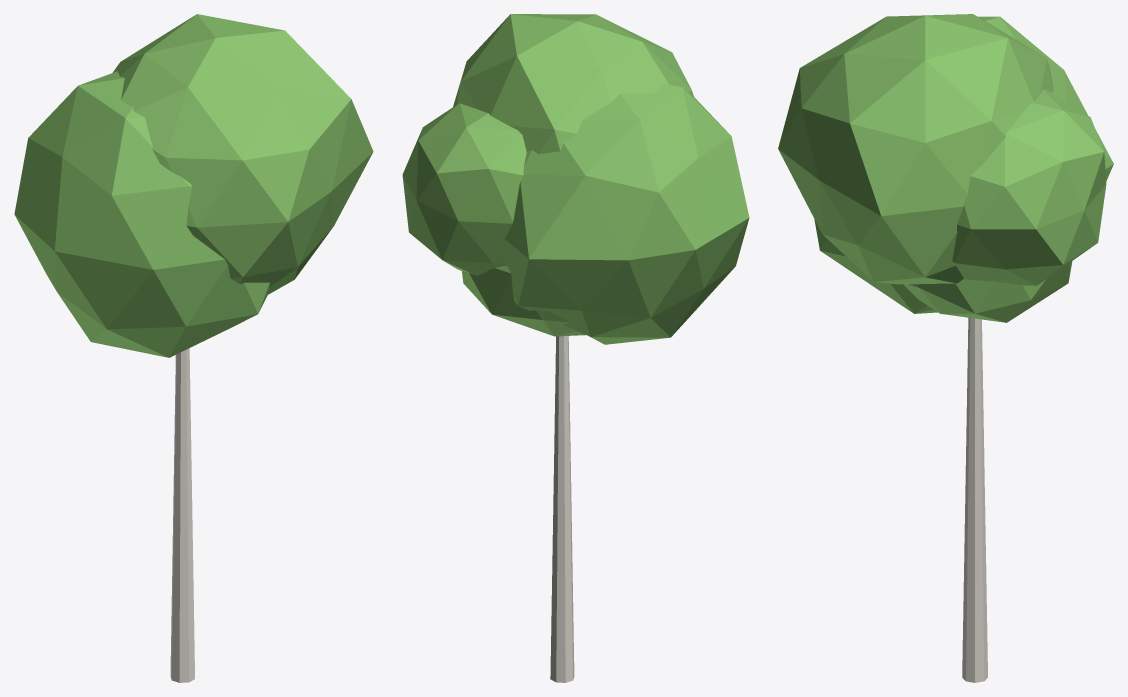
File: birch_tree_1.glb
The picture shows the model from 3 angles, left to right: view 1: azimuth 30°, elevation 25°; view 2: azimuth 150°, elevation 25°; view 3: azimuth 270°, elevation 25°; orthographic projection. The views are drawn at different scales.
Visible parts, largest first — view 1: birch_tree_1_canopy_3, birch_tree_1_canopy_2, birch_tree_1_trunk; view 2: birch_tree_1_canopy_2, birch_tree_1_canopy_3, birch_tree_1_canopy_1, birch_tree_1_trunk, birch_tree_1_canopy_0; view 3: birch_tree_1_canopy_3, birch_tree_1_canopy_1, birch_tree_1_trunk, birch_tree_1_canopy_0, birch_tree_1_canopy_2.
Part boxes in pixels (<box>): birch_tree_1_canopy_3: <box>112,14,373,294</box>; birch_tree_1_canopy_2: <box>14,71,270,357</box>; birch_tree_1_trunk: <box>170,348,194,682</box>; birch_tree_1_canopy_2: <box>504,81,749,344</box>; birch_tree_1_canopy_3: <box>453,14,694,153</box>; birch_tree_1_canopy_1: <box>402,103,526,275</box>; birch_tree_1_trunk: <box>550,336,574,682</box>; birch_tree_1_canopy_0: <box>462,265,585,336</box>; birch_tree_1_canopy_3: <box>778,14,1053,284</box>; birch_tree_1_canopy_1: <box>952,89,1106,285</box>; birch_tree_1_trunk: <box>962,317,987,682</box>; birch_tree_1_canopy_0: <box>903,261,1072,322</box>; birch_tree_1_canopy_2: <box>814,16,1113,313</box>.
Bounding box in the file's own units: 3.59 × 7.37 × 3.37.
